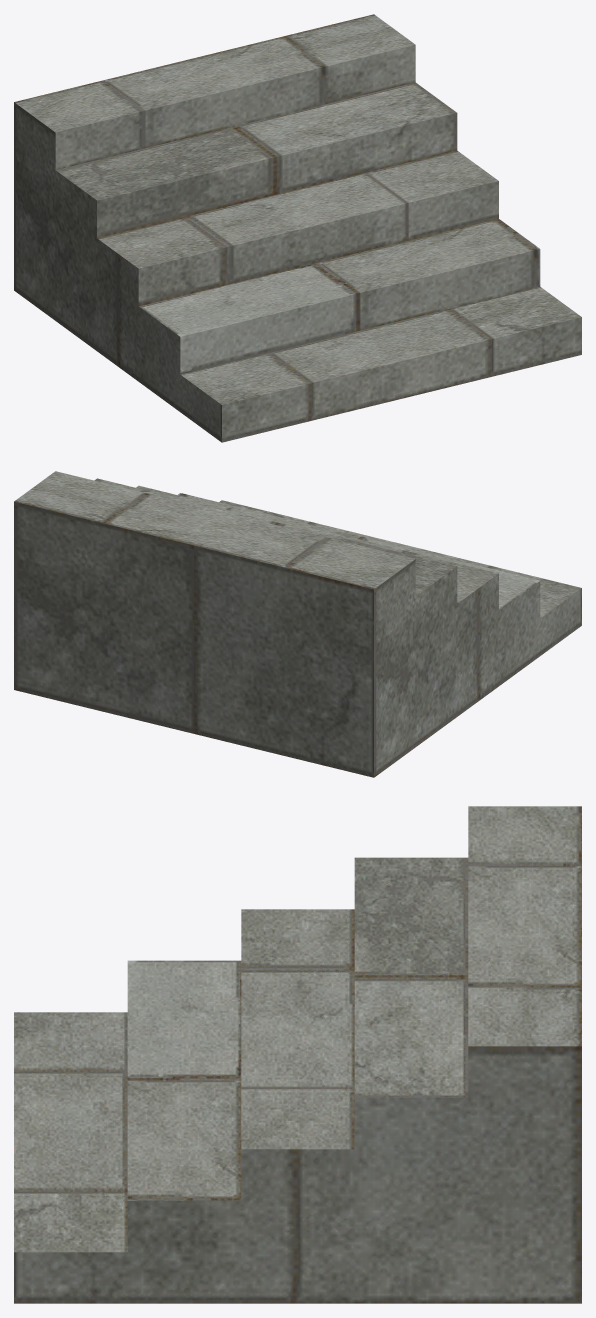
The model's file is steps_1x1.fbx.
The picture shows the model from 3 angles, top to bottom: view 1: azimuth 30°, elevation 25°; view 2: azimuth 150°, elevation 25°; view 3: azimuth 270°, elevation 25°; orthographic projection. The views are drawn at different scales.
Parts seen in each view (by area): view 1: steps_1x1; view 2: steps_1x1; view 3: steps_1x1.
Part boxes in pixels (box(x1,y1,x2,y2)): steps_1x1: box(14, 14, 581, 442); steps_1x1: box(14, 471, 581, 777); steps_1x1: box(14, 806, 581, 1303).
Bounding box in the file's own units: 100 × 50 × 100.
